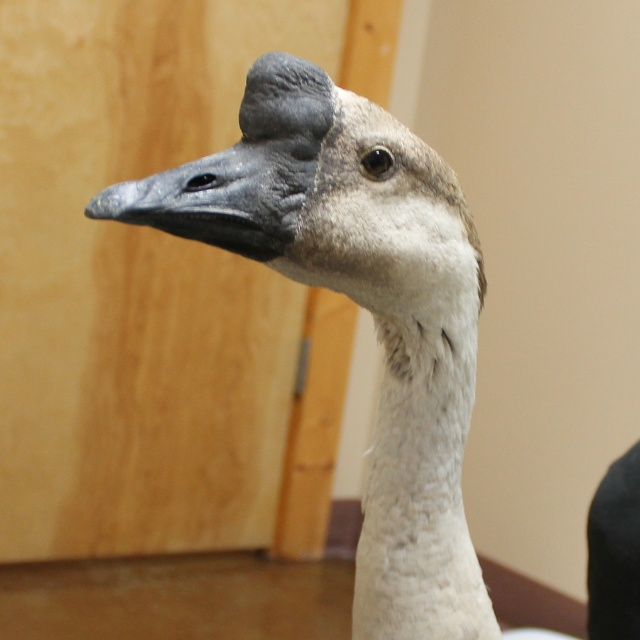Goose: (81, 47, 582, 640)
